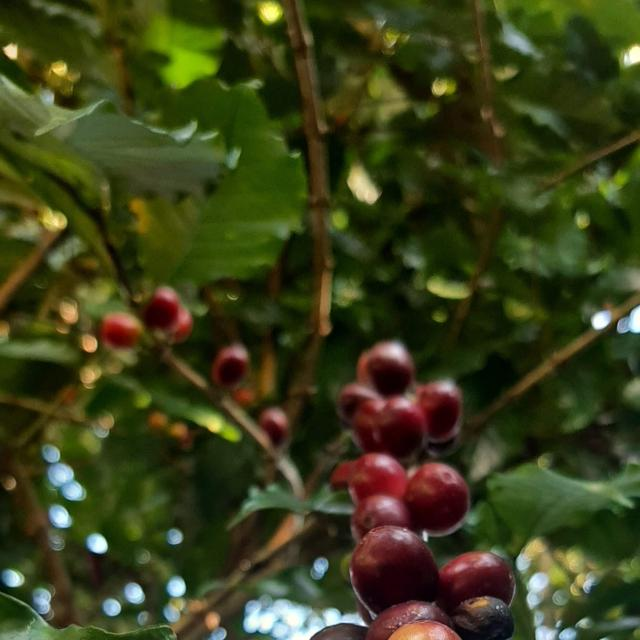red: (350, 526, 439, 616), (437, 553, 516, 615), (404, 463, 470, 537), (366, 602, 454, 640), (349, 454, 408, 505), (351, 495, 412, 542), (452, 597, 515, 640)
